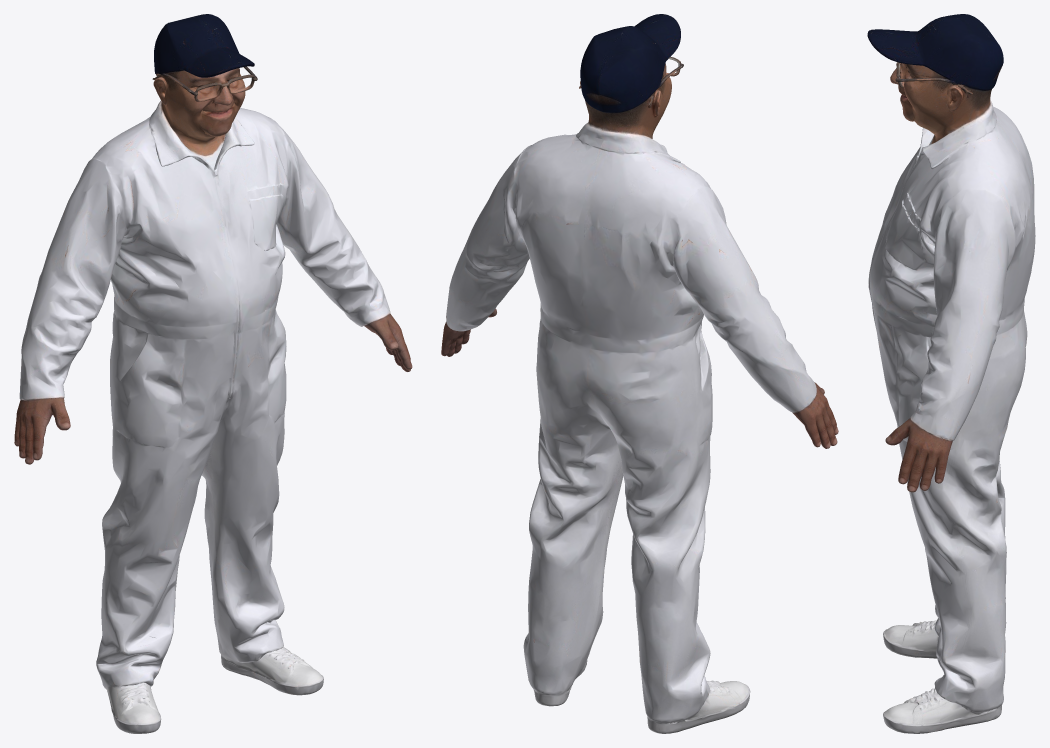
The model's file is edvaldo-expressoes-01d4ad5ef9.glb.
3 renders of one model, left to right at view 1: azimuth 30°, elevation 25°; view 2: azimuth 150°, elevation 25°; view 3: azimuth 270°, elevation 25°, orthographic.
Parts seen in each view (by area): view 1: npc-edvaldo-hd0; view 2: npc-edvaldo-hd0; view 3: npc-edvaldo-hd0.
Boxes of the visible parts, <box> form: npc-edvaldo-hd0: <box>14,14,412,733</box>; npc-edvaldo-hd0: <box>441,14,838,733</box>; npc-edvaldo-hd0: <box>867,14,1035,733</box>.
Bounding box in the file's own units: 1.13 × 1.9 × 0.4315.
Materials: 1 (1 with a texture image).
